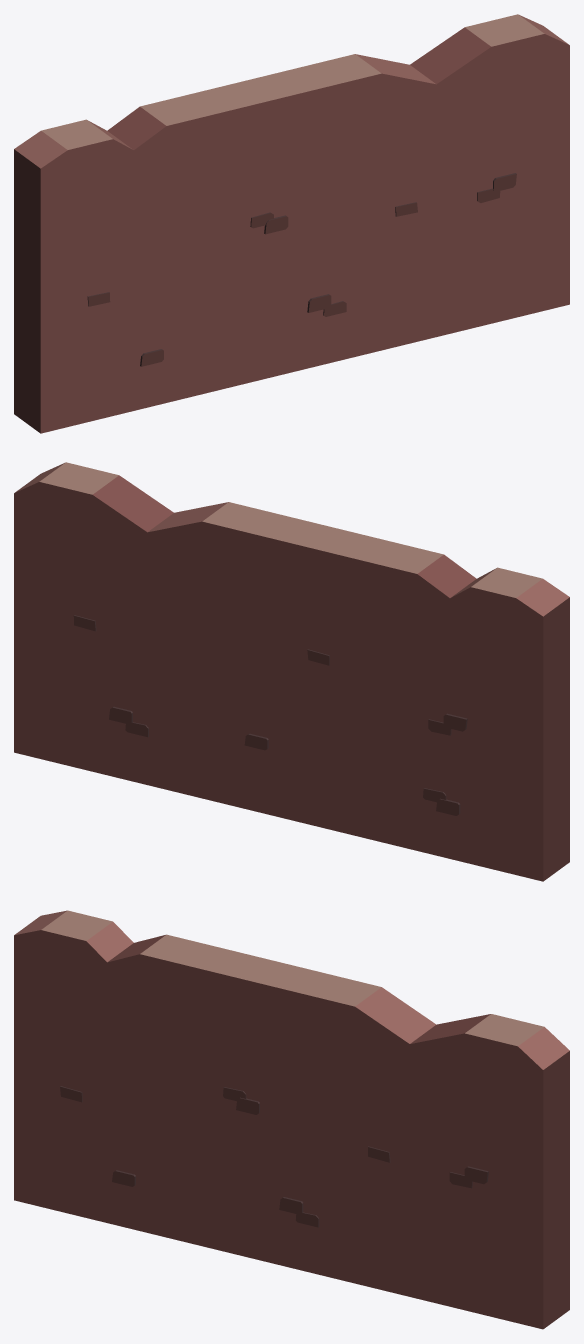
Rendered from TB_D_Bd_Wall_Plain_A_Red.FBX.
3 views of the same model, one above another, from view 1: azimuth 30°, elevation 25°; view 2: azimuth 150°, elevation 25°; view 3: azimuth 330°, elevation 25° (orthographic).
Visible parts, largest first — view 1: TB_D_Bd_Wall_Plain_A_Red; view 2: TB_D_Bd_Wall_Plain_A_Red; view 3: TB_D_Bd_Wall_Plain_A_Red.
Part boxes in pixels (left/top/right/bottom): TB_D_Bd_Wall_Plain_A_Red: left=14, top=14, right=569, bottom=433; TB_D_Bd_Wall_Plain_A_Red: left=14, top=462, right=569, bottom=881; TB_D_Bd_Wall_Plain_A_Red: left=14, top=910, right=569, bottom=1329.
Bounding box in the file's own units: 8 × 4 × 0.7691.
